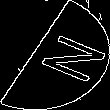N_NW: (14, 26, 96, 84)
